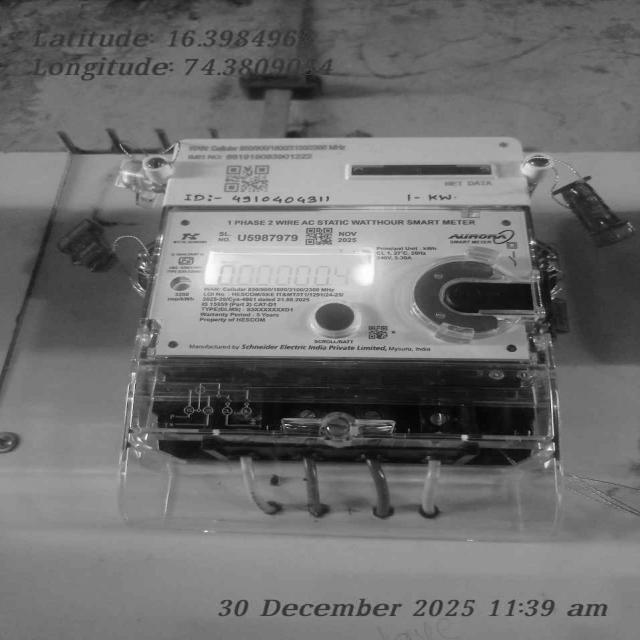meter: (130, 138, 548, 359)
